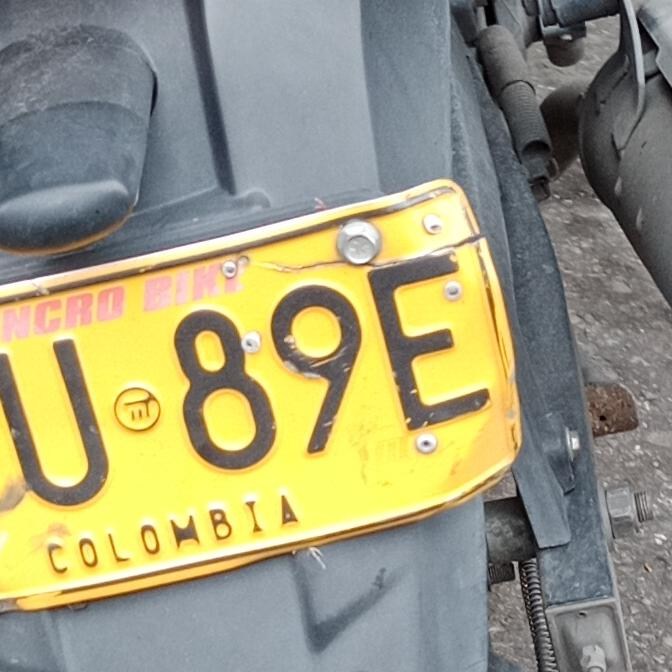plates: (0, 169, 547, 610)
